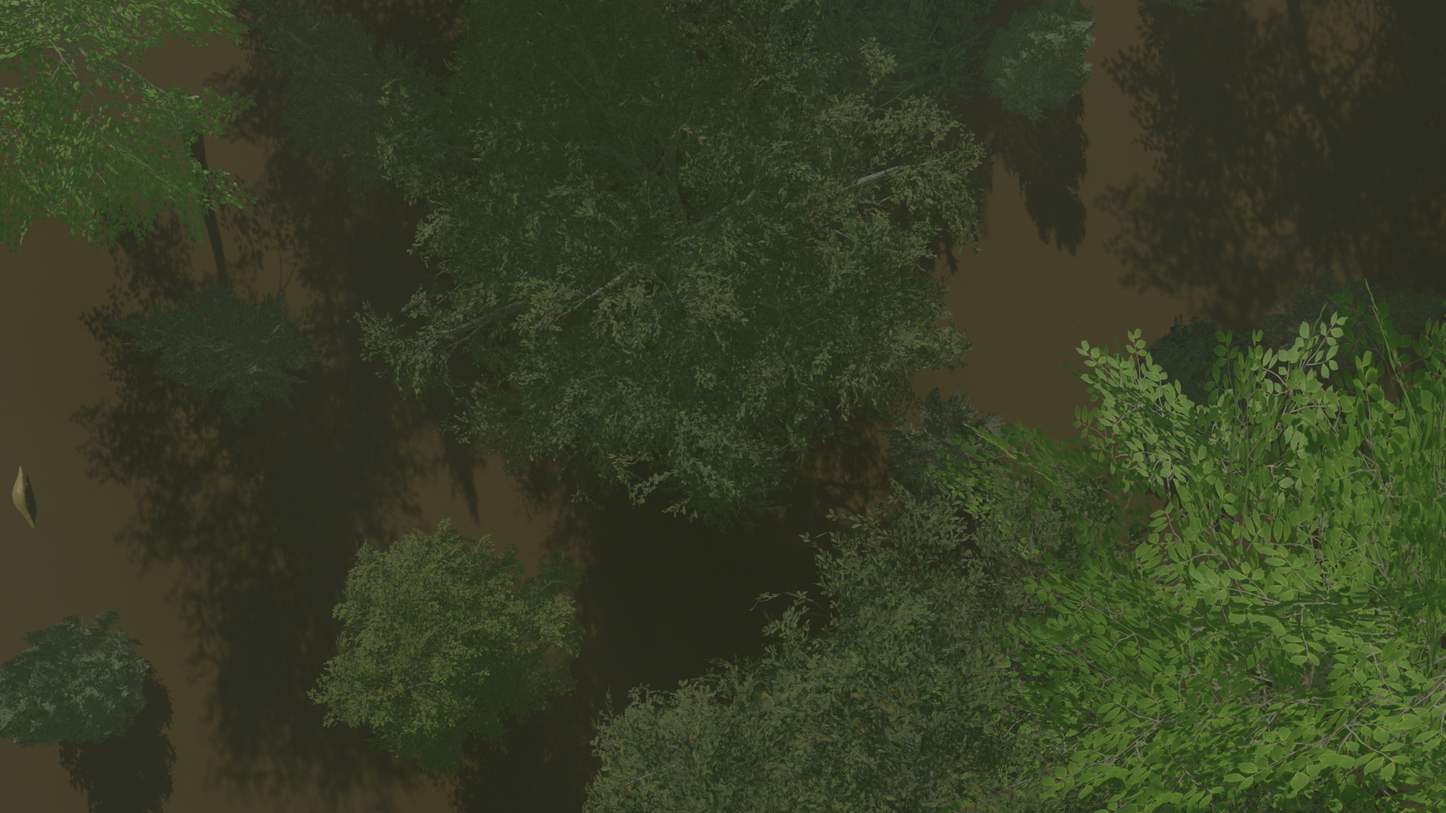pangolin: (7, 465, 44, 542), (1402, 341, 1446, 371)
